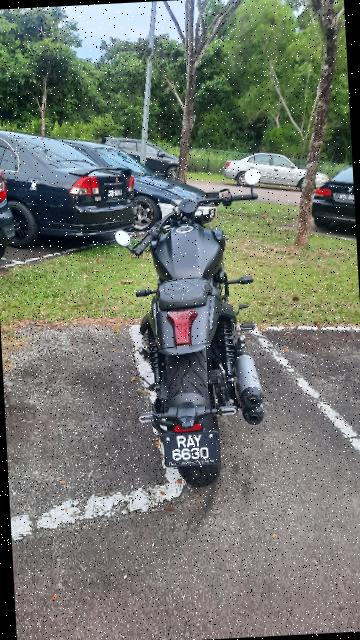License_Plate: (156, 425, 227, 473)
motorcycle: (114, 164, 275, 491)
